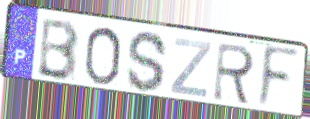B: (35, 17, 81, 83)
F: (255, 44, 302, 112)
O: (82, 25, 124, 87)
R: (211, 40, 257, 107)
S: (125, 30, 169, 95)
Z: (168, 36, 213, 100)
